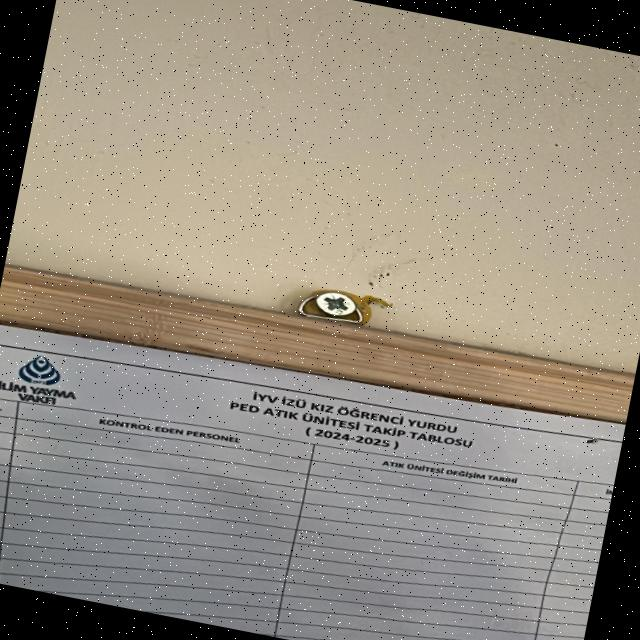Pozidriv: (301, 288, 374, 332)
